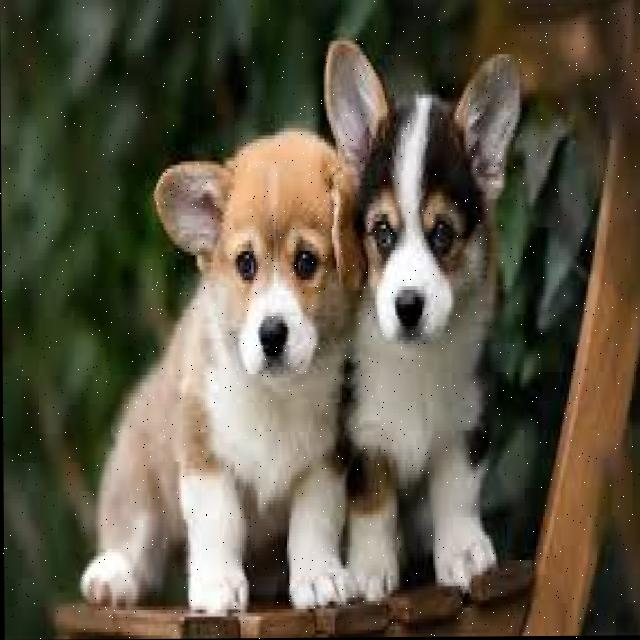CORGI: (80, 104, 356, 629), (307, 33, 528, 591)
